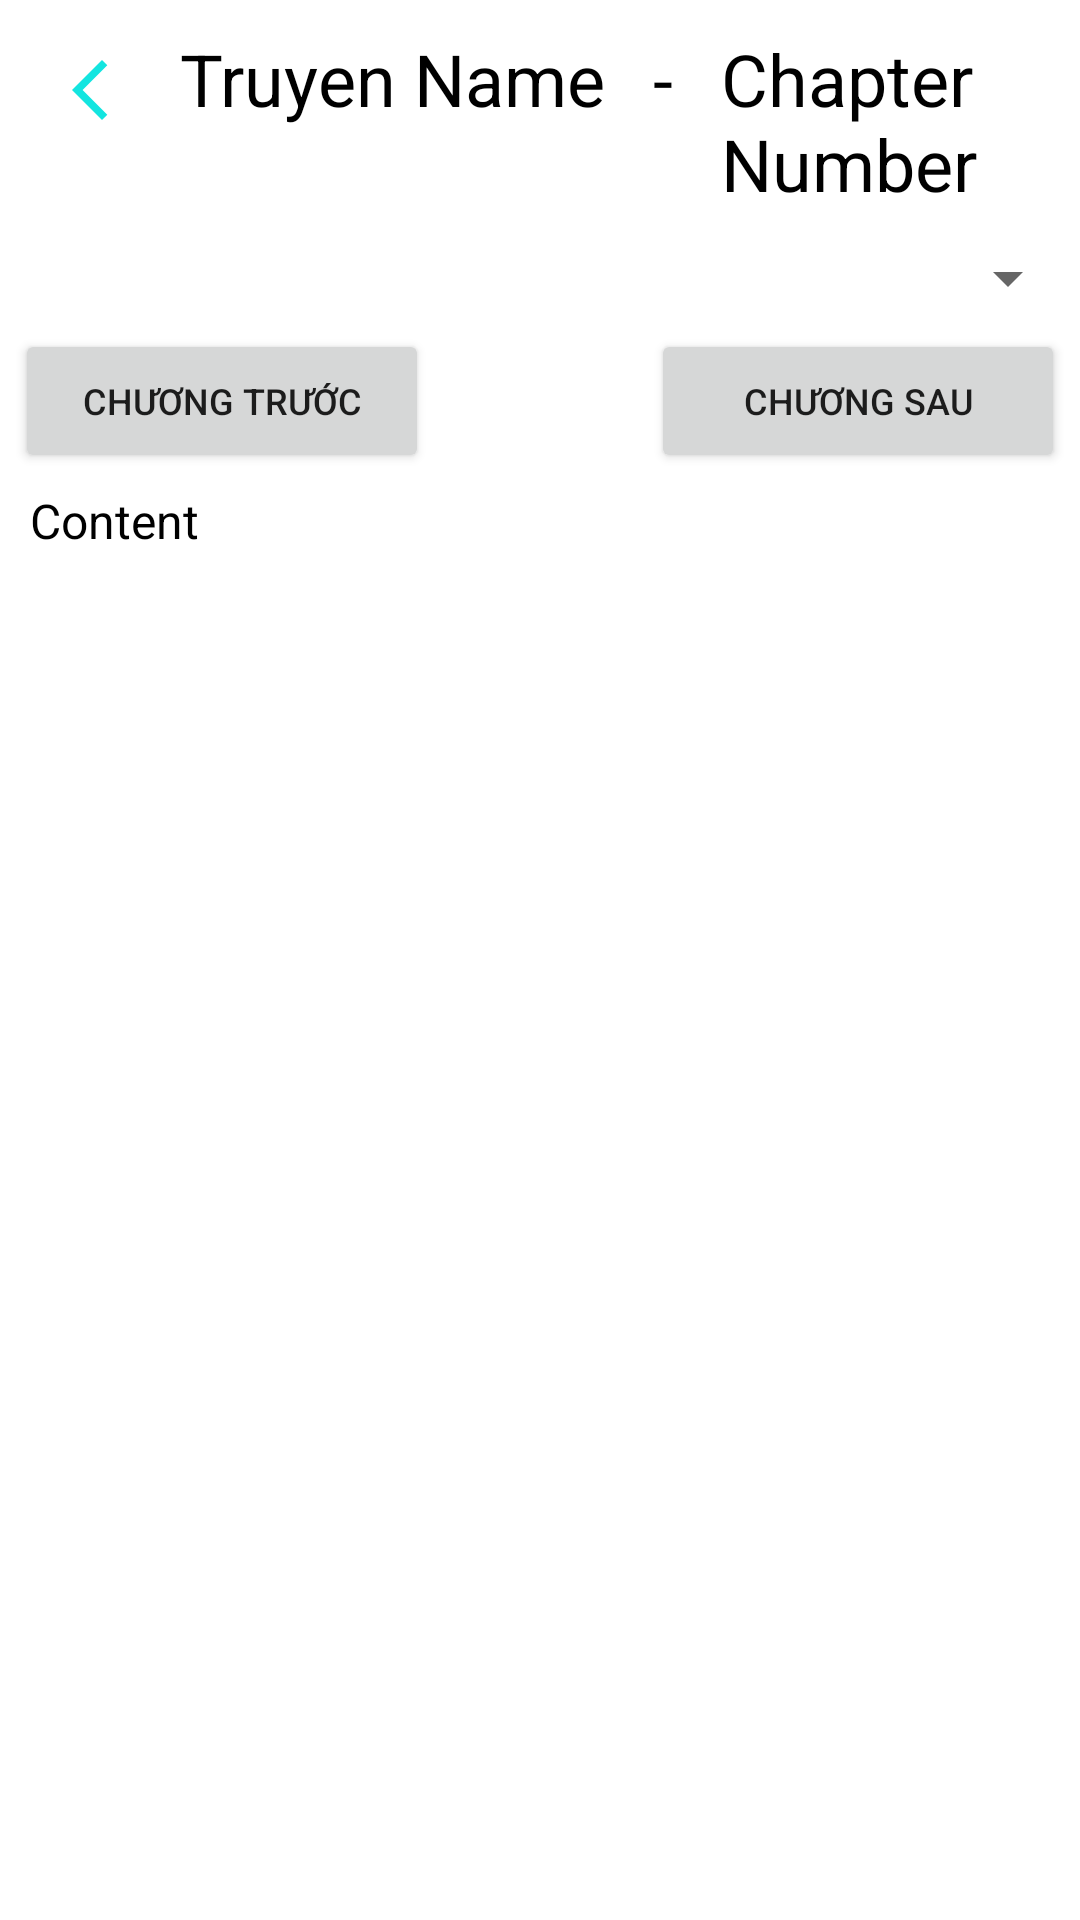

Icon click points for this 1080px x 1920px phone screenshot, format point (x, y):
arrow back: point (89, 90)
